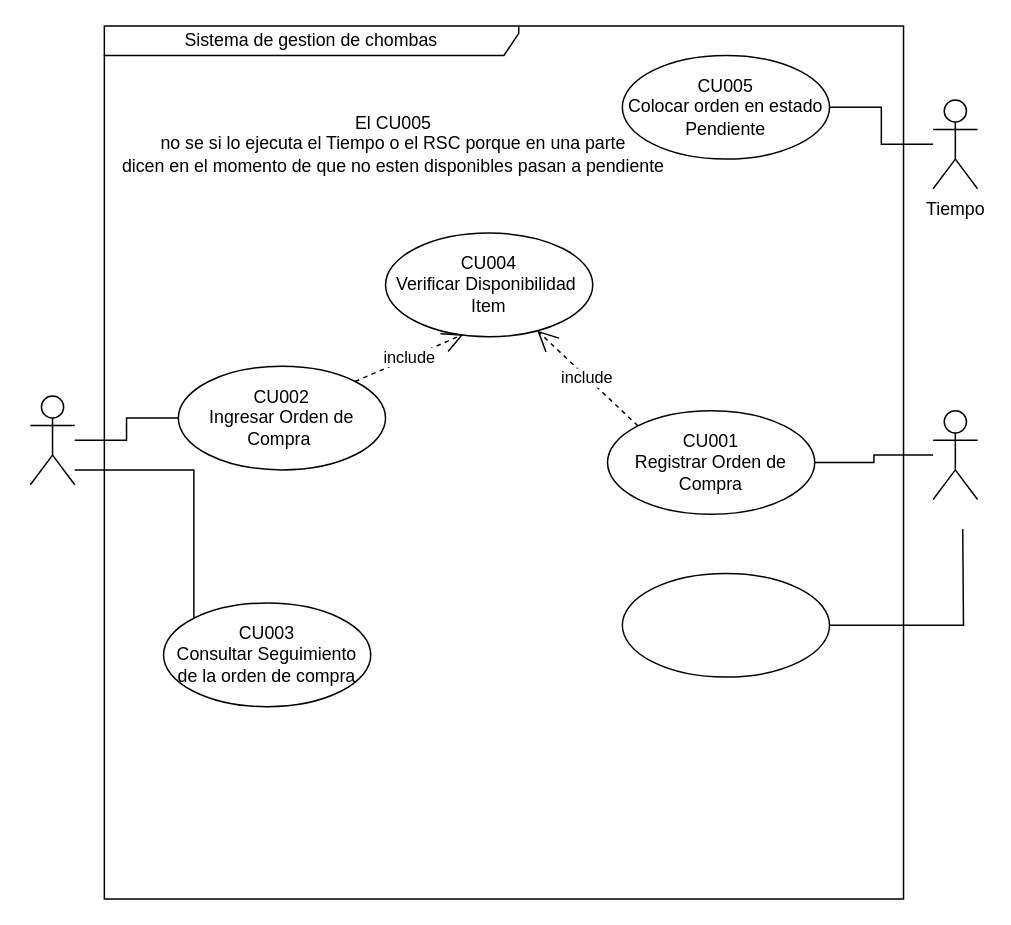
This 1011x925 diagram has some shape labels left out. Here are the shapes that lost their labels. From the top down, the centre of each, then its label:
the point at 52,439: Cliente
the point at 955,454: RSC
the point at 725,624: CU006 Verificar Pago
